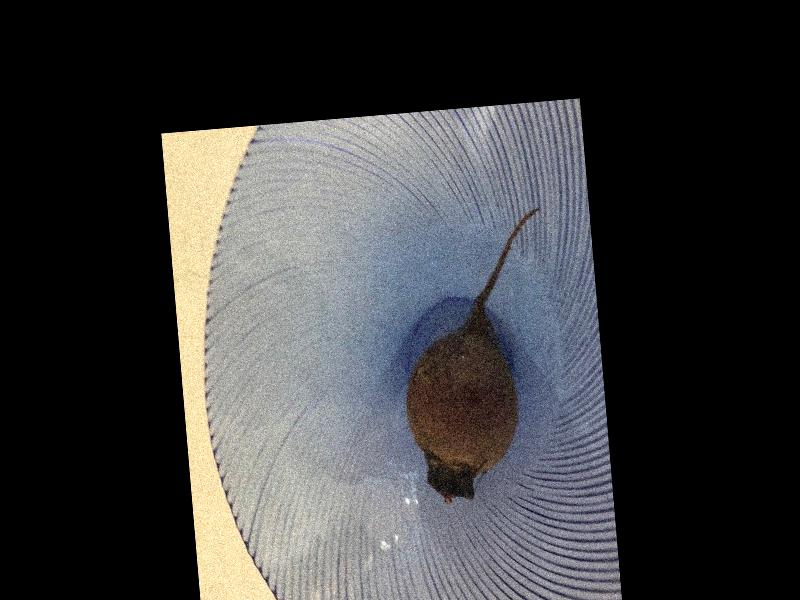Beet: (392, 208, 561, 504)
